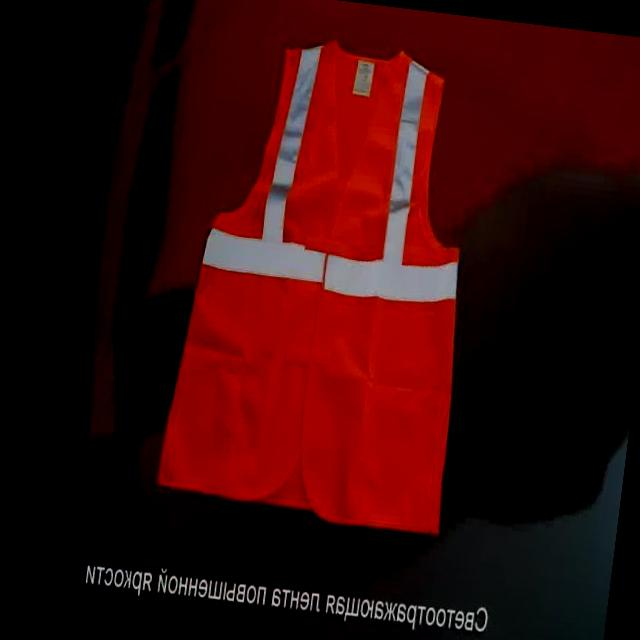vest: (152, 19, 498, 542)
